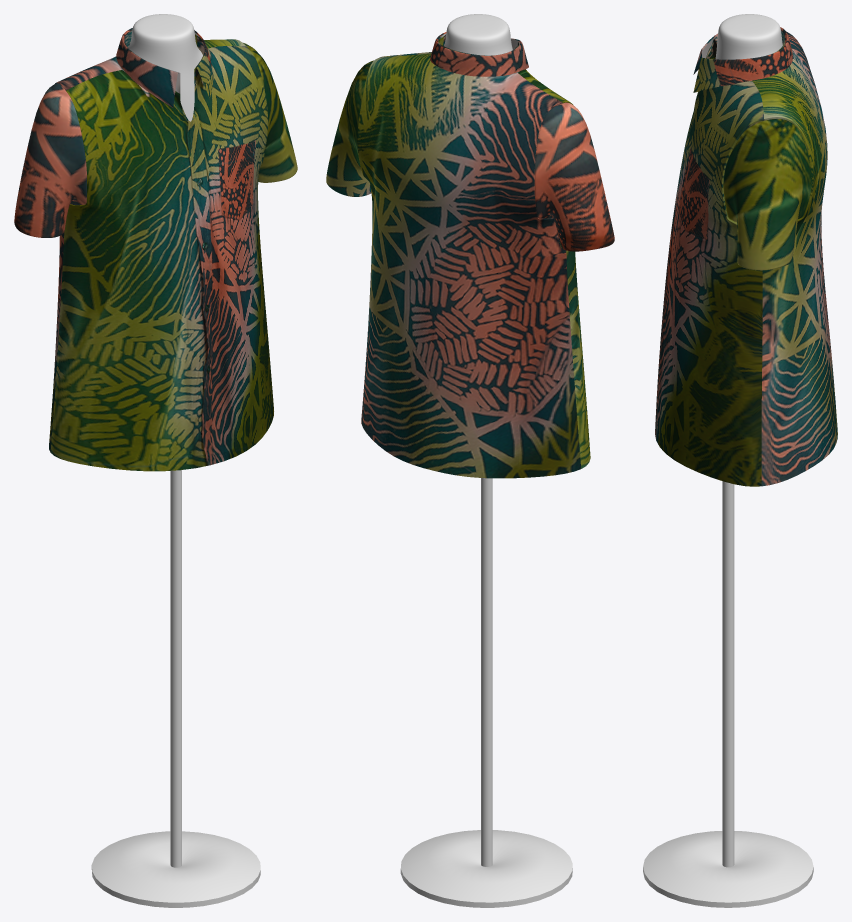
Rendered from 1 men batik shirt short.fbx.
3 renders of one model, left to right at view 1: azimuth 30°, elevation 25°; view 2: azimuth 150°, elevation 25°; view 3: azimuth 270°, elevation 25°, orthographic.
Visible parts, largest first — view 1: pasted__polySurface13, polySurface17, polySurface18, pasted__polySurface14; view 2: pasted__polySurface13, polySurface17, polySurface18, pasted__polySurface14; view 3: pasted__polySurface13, polySurface17, pasted__polySurface14, polySurface18.
Boxes of the visible parts, bbox=[...] form: pasted__polySurface13: bbox=[14, 30, 297, 471]; polySurface17: bbox=[91, 470, 260, 907]; polySurface18: bbox=[128, 14, 202, 121]; pasted__polySurface14: bbox=[116, 28, 213, 107]; pasted__polySurface13: bbox=[326, 33, 614, 478]; polySurface17: bbox=[400, 478, 572, 907]; polySurface18: bbox=[444, 14, 512, 55]; pasted__polySurface14: bbox=[430, 32, 528, 76]; pasted__polySurface13: bbox=[655, 30, 837, 486]; polySurface17: bbox=[643, 481, 813, 907]; pasted__polySurface14: bbox=[693, 27, 792, 92]; polySurface18: bbox=[715, 14, 782, 59].
Size of the model in its own units: 54.39 by 158 by 33.02.
Materials: 3 (1 with a texture image).
